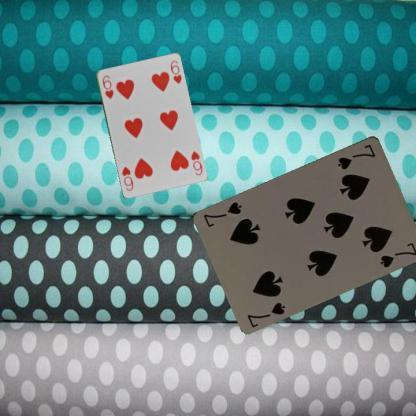6h: (188, 148, 204, 176), (100, 73, 114, 100)
7s: (244, 298, 288, 328), (334, 141, 376, 171)
